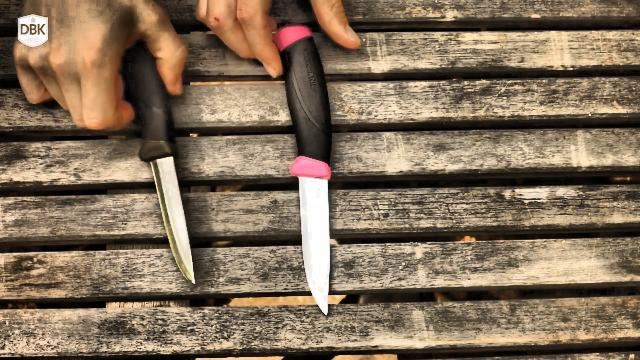knife: (92, 65, 200, 291), (286, 134, 340, 318)
